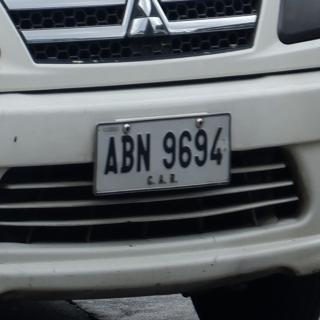license: (94, 114, 232, 196)
